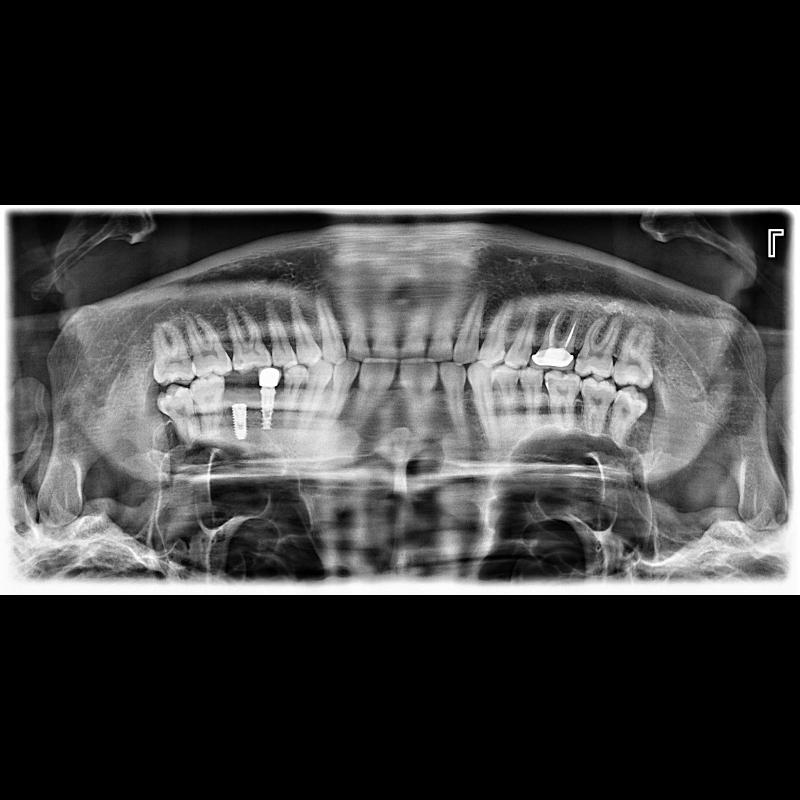osstem: (257, 386, 279, 438), (230, 400, 250, 442)
